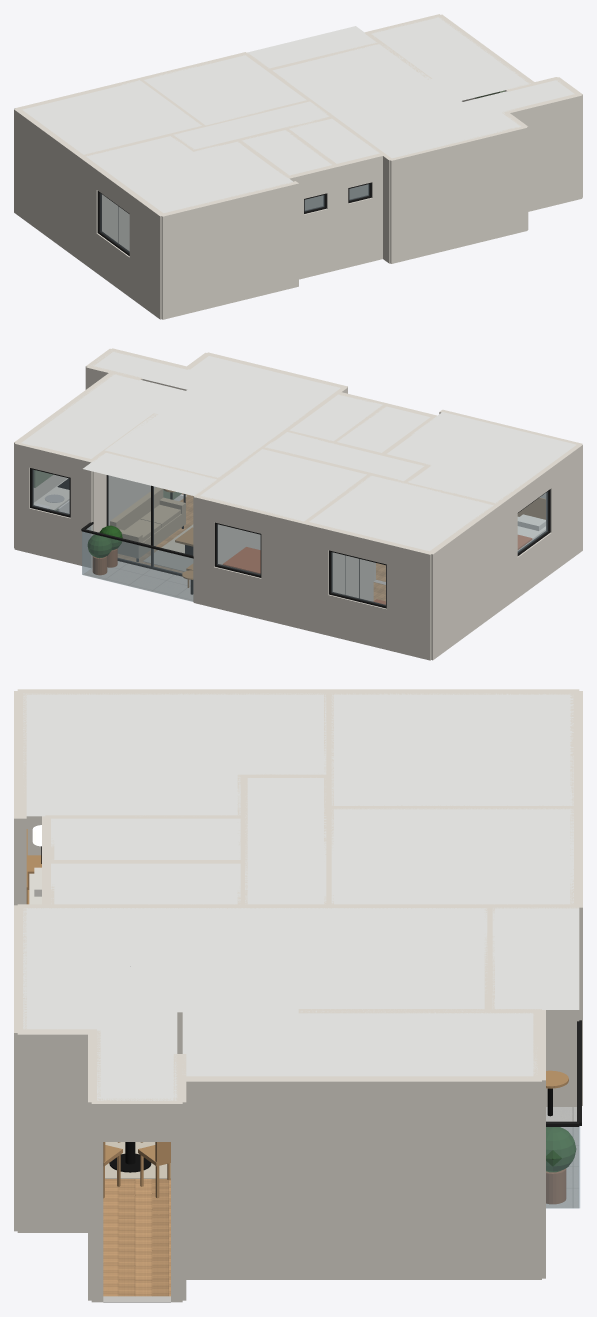
Rendered from modelo_escandinavo.glb.
3 views of the same model, one above another, from view 1: azimuth 30°, elevation 25°; view 2: azimuth 150°, elevation 25°; view 3: azimuth 270°, elevation 25° (orthographic). The views are drawn at different scales.
Parts seen in each view (by area): view 1: Parede_P03, Parede_P05, Teto_Sala estar/jantar, Parede_P02.003, Teto_Suíte, Teto_Quarto 1, Teto_Quarto 2, Teto_Cozinha, Parede_P07, Parede_P02, Teto_Circulação, Teto_Varanda (+17 smaller); view 2: Teto_Sala estar/jantar, Parede_P02.003, Teto_Suíte, Teto_Quarto 1, Parede_P01.003, Teto_Quarto 2, Teto_Cozinha, Vidro_P15, Parede_P01, GuardaCorpo_vidro, Parede_P02, Teto_Circulação (+34 smaller); view 3: Parede_P10, Teto_Sala estar/jantar, Teto_Suíte, Teto_Quarto 1, Teto_Quarto 2, Teto_Cozinha, Parede_P06, Teto_Circulação, Teto_Varanda, Teto_Banheiro suíte, Teto_Banheiro social, Teto_Hall de entrada (+25 smaller).
Part boxes in pixels (bbox=[...]): Parede_P03: bbox=[160, 181, 298, 319]; Parede_P05: bbox=[388, 125, 527, 263]; Teto_Sala estar/jantar: bbox=[272, 44, 520, 158]; Parede_P02.003: bbox=[14, 108, 102, 272]; Teto_Suíte: bbox=[86, 136, 293, 213]; Teto_Quarto 1: bbox=[22, 80, 201, 154]; Teto_Quarto 2: bbox=[144, 55, 306, 125]; Teto_Cozinha: bbox=[371, 17, 530, 100]; Parede_P07: bbox=[503, 93, 582, 211]; Parede_P02: bbox=[129, 193, 164, 319]; Teto_Circulação: bbox=[173, 101, 329, 149]; Teto_Varanda: bbox=[247, 26, 377, 68]; Teto_Sala estar/jantar: bbox=[105, 356, 340, 477]; Parede_P02.003: bbox=[427, 491, 517, 660]; Teto_Suíte: bbox=[387, 412, 576, 503]; Teto_Quarto 1: bbox=[309, 476, 493, 551]; Parede_P01.003: bbox=[261, 511, 331, 635]; Teto_Quarto 2: bbox=[200, 449, 366, 521]; Teto_Cozinha: bbox=[21, 374, 185, 458]; Vidro_P15: bbox=[108, 475, 192, 573]; Parede_P01: bbox=[386, 541, 433, 660]; GuardaCorpo_vidro: bbox=[82, 532, 193, 601]; Parede_P02: bbox=[546, 443, 582, 572]; Teto_Circulação: bbox=[265, 432, 424, 481]; Parede_P10: bbox=[177, 1076, 541, 1279]; Teto_Sala estar/jantar: bbox=[23, 908, 487, 1030]; Teto_Suíte: bbox=[23, 693, 326, 816]; Teto_Quarto 1: bbox=[331, 693, 573, 805]; Teto_Quarto 2: bbox=[331, 808, 573, 904]; Teto_Cozinha: bbox=[182, 1012, 537, 1076]; Parede_P06: bbox=[17, 1029, 96, 1232]; Teto_Circulação: bbox=[245, 777, 326, 904]; Teto_Varanda: bbox=[492, 907, 579, 1009]; Teto_Banheiro suíte: bbox=[51, 818, 240, 859]; Teto_Banheiro social: bbox=[51, 863, 240, 904]; Teto_Hall de entrada: bbox=[97, 1030, 177, 1100].
Bounding box in the file's own units: 11.66 × 2.6 × 6.76.
25 materials, 3 textured.
